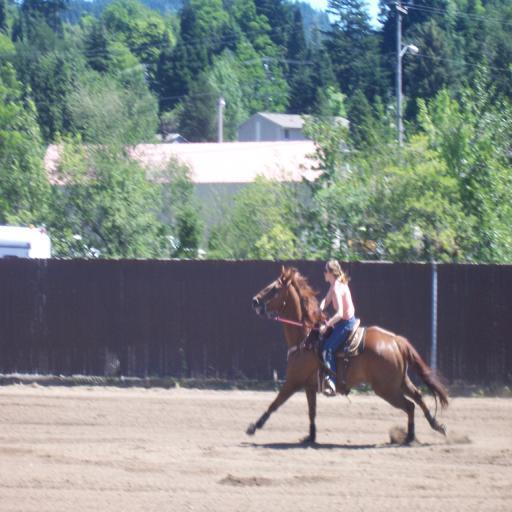horse: (244, 260, 451, 448)
